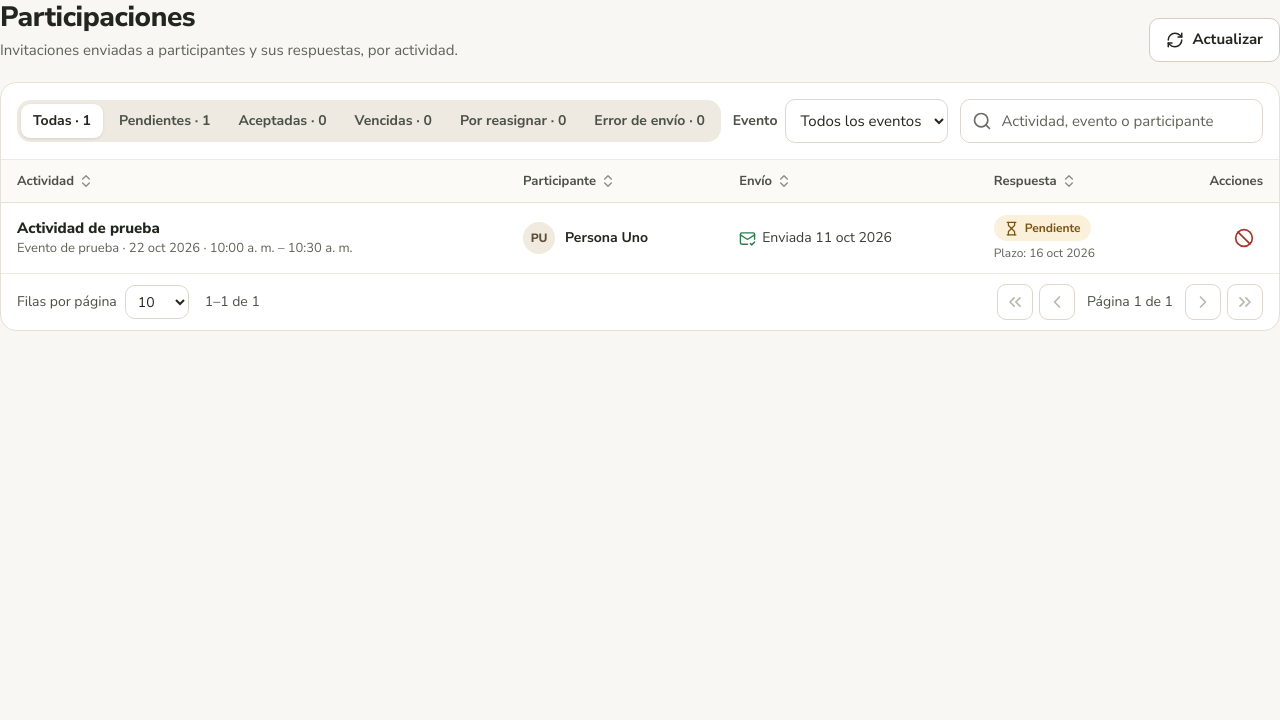
AdminParticipationsPage › cancelar pide confirmación con el texto del diseño
Click the button named "Cancelar invitación a Persona Uno" at point(1244, 238), box x1=1225 y1=219 x2=1263 y2=257
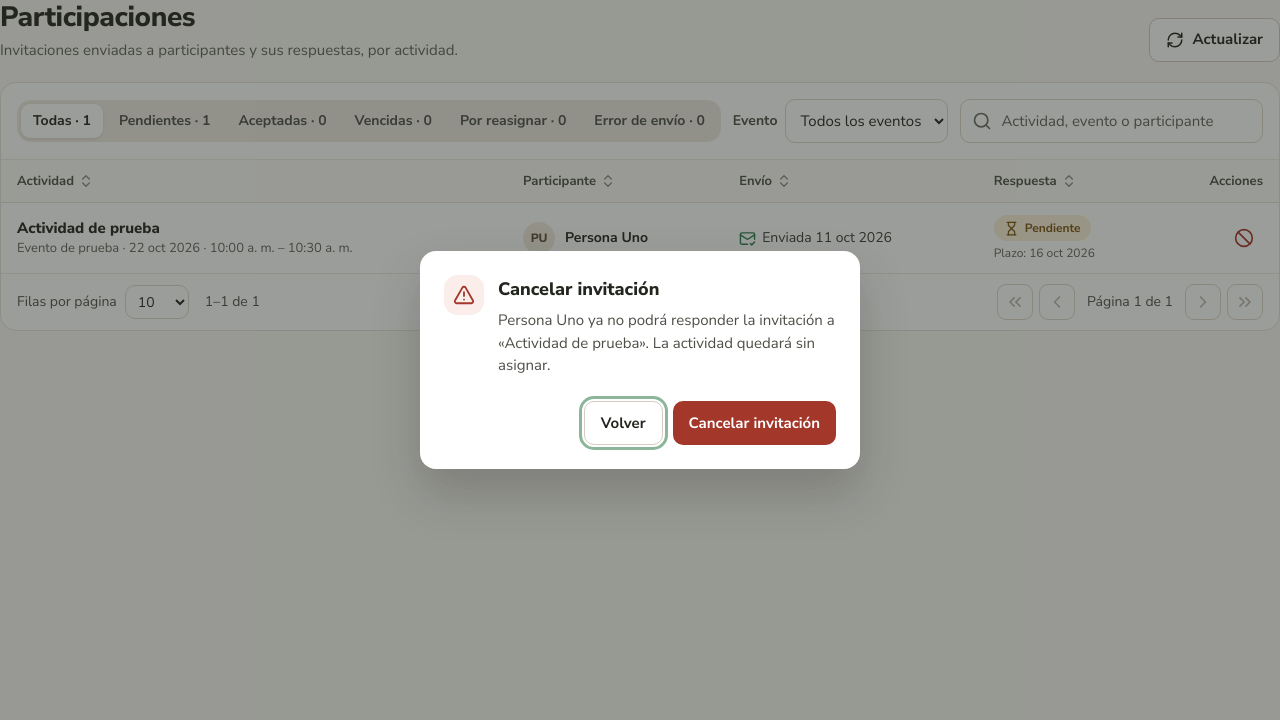
Expected: the text "Persona Uno ya no podrá responder la invitación a «Actividad de prueba». La actividad quedará sin asignar." is shown, x1=498 y1=310 x2=835 y2=375
Expected: the button "Volver" is shown, x1=584 y1=401 x2=663 y2=445
Click the button "Cancelar invitación" at point(754, 423), box x1=673 y1=401 x2=836 y2=445
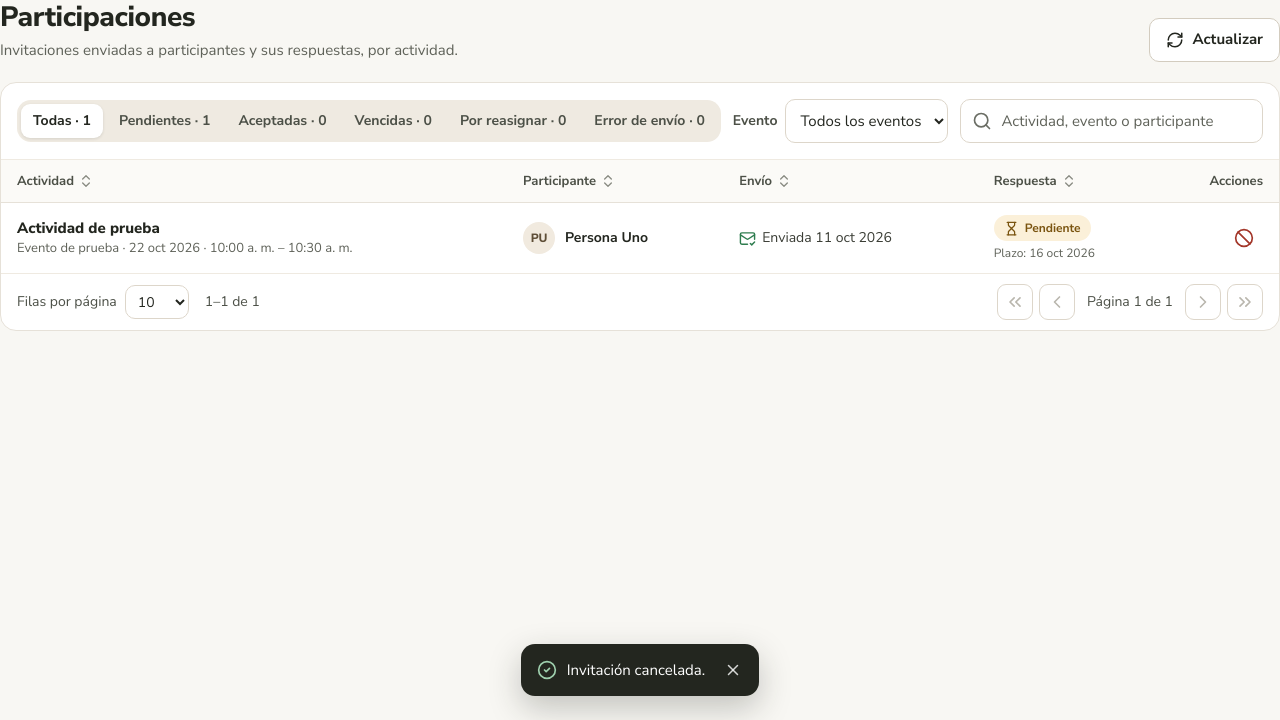
Expected: the dialog is gone
